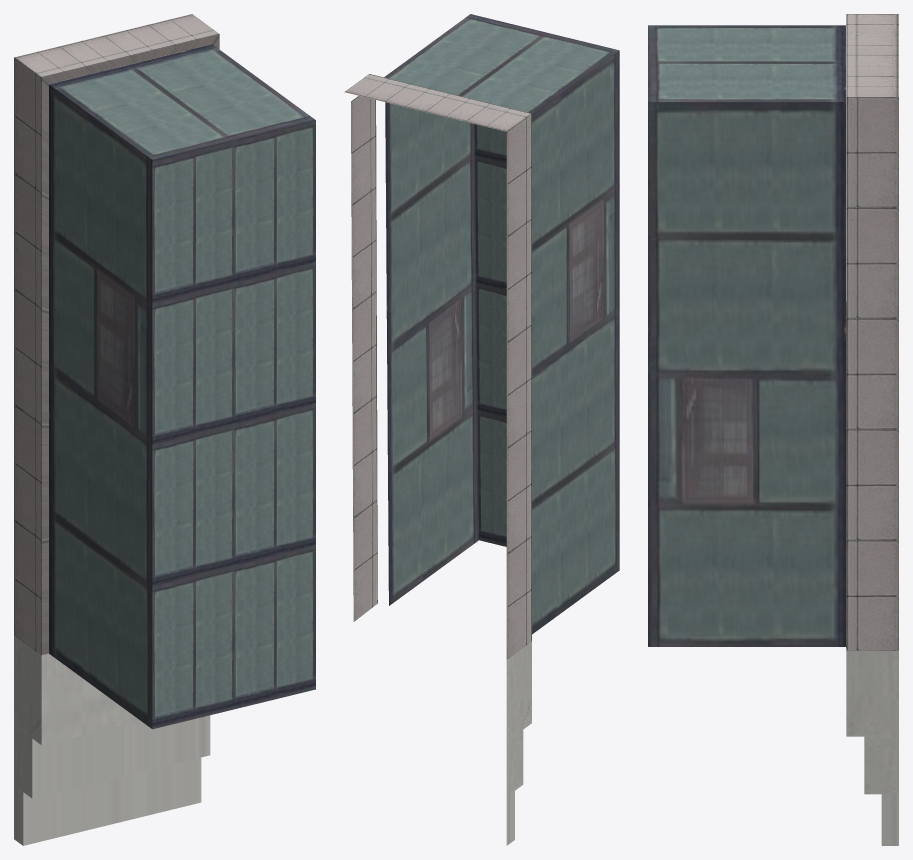
File: yongshenglu3.gltf
The picture shows the model from 3 angles, left to right: view 1: azimuth 30°, elevation 25°; view 2: azimuth 150°, elevation 25°; view 3: azimuth 270°, elevation 25°; orthographic projection. The views are drawn at different scales.
Visible parts, largest first — view 1: Box001; view 2: Box001; view 3: Box001.
Boxes of the visible parts, x1,y1,x2,y2 form: Box001: [14, 14, 315, 845]; Box001: [344, 14, 619, 845]; Box001: [648, 14, 898, 845].
Size of the model in its own units: 4.68 by 19.63 by 5.96.
Materials: 4 (4 with a texture image).
